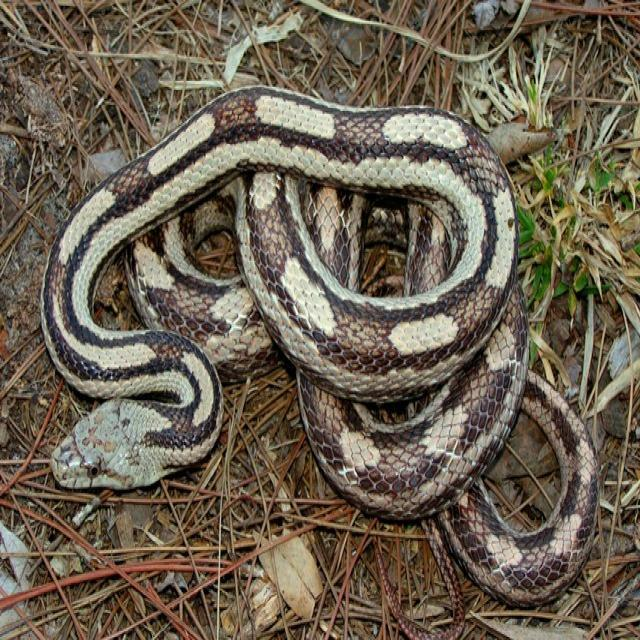Snake: (39, 82, 599, 637)
